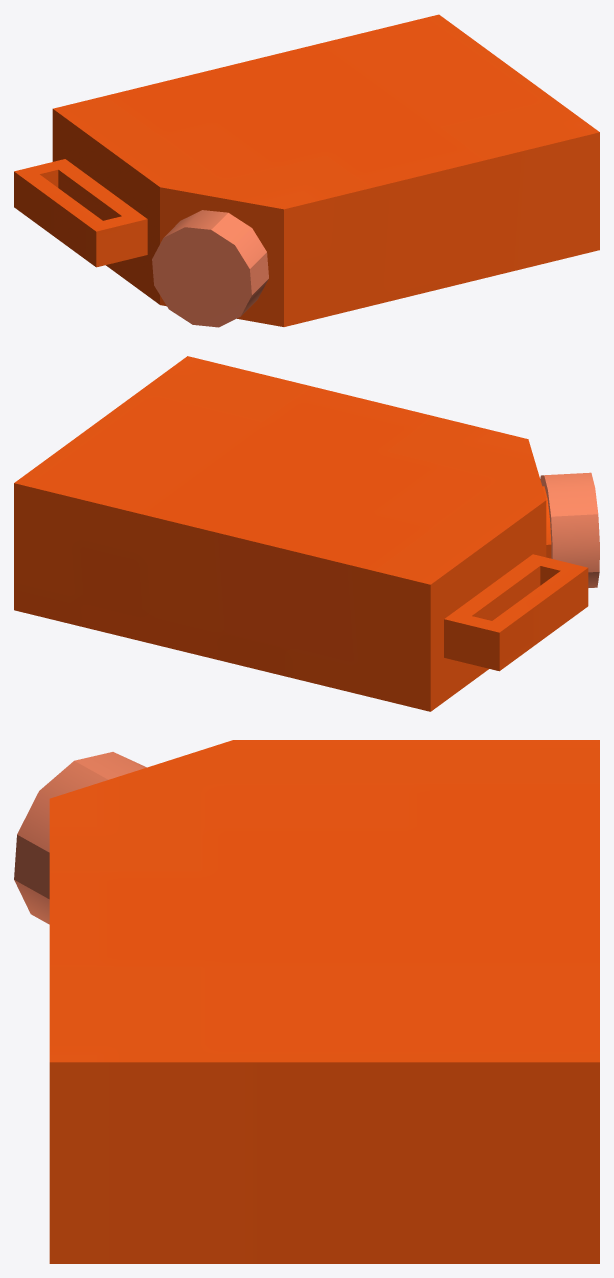
File: Can02.fbx
3 views of the same model, one above another, from view 1: azimuth 30°, elevation 25°; view 2: azimuth 150°, elevation 25°; view 3: azimuth 270°, elevation 25° (orthographic). The views are drawn at different scales.
Parts seen in each view (by area): view 1: Can02; view 2: Can02; view 3: Can02.
Part boxes in pixels (bbox=[...]): Can02: bbox=[14, 14, 599, 327]; Can02: bbox=[14, 356, 599, 711]; Can02: bbox=[14, 740, 599, 1263].
Size of the model in its own units: 680 by 175 by 461.
